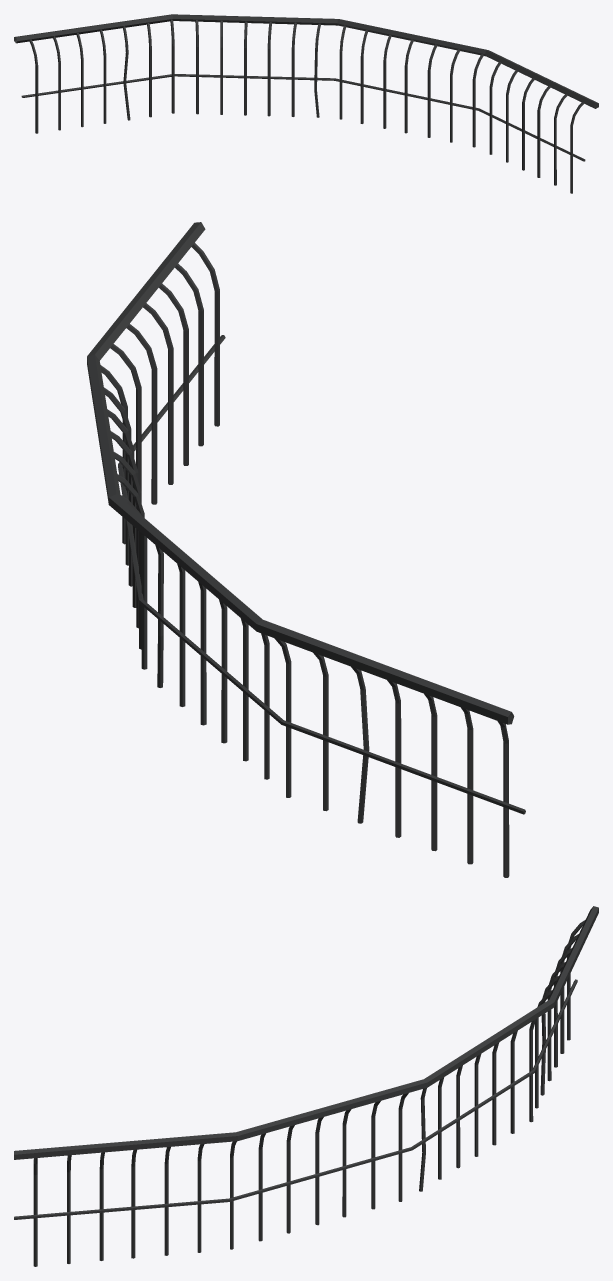
The model's file is SM_Envr_Seawall_Fence_Corner_02.fbx.
3 views of the same model, one above another, from view 1: azimuth 30°, elevation 25°; view 2: azimuth 150°, elevation 25°; view 3: azimuth 270°, elevation 25° (orthographic). The views are drawn at different scales.
Parts seen in each view (by area): view 1: SM_Envr_Seawall_Fence_Corner_02; view 2: SM_Envr_Seawall_Fence_Corner_02; view 3: SM_Envr_Seawall_Fence_Corner_02.
Part boxes in pixels (bbox=[...]): SM_Envr_Seawall_Fence_Corner_02: bbox=[14, 14, 598, 193]; SM_Envr_Seawall_Fence_Corner_02: bbox=[87, 222, 525, 877]; SM_Envr_Seawall_Fence_Corner_02: bbox=[14, 906, 598, 1266].
Size of the model in its own units: 525 by 124 by 525.
